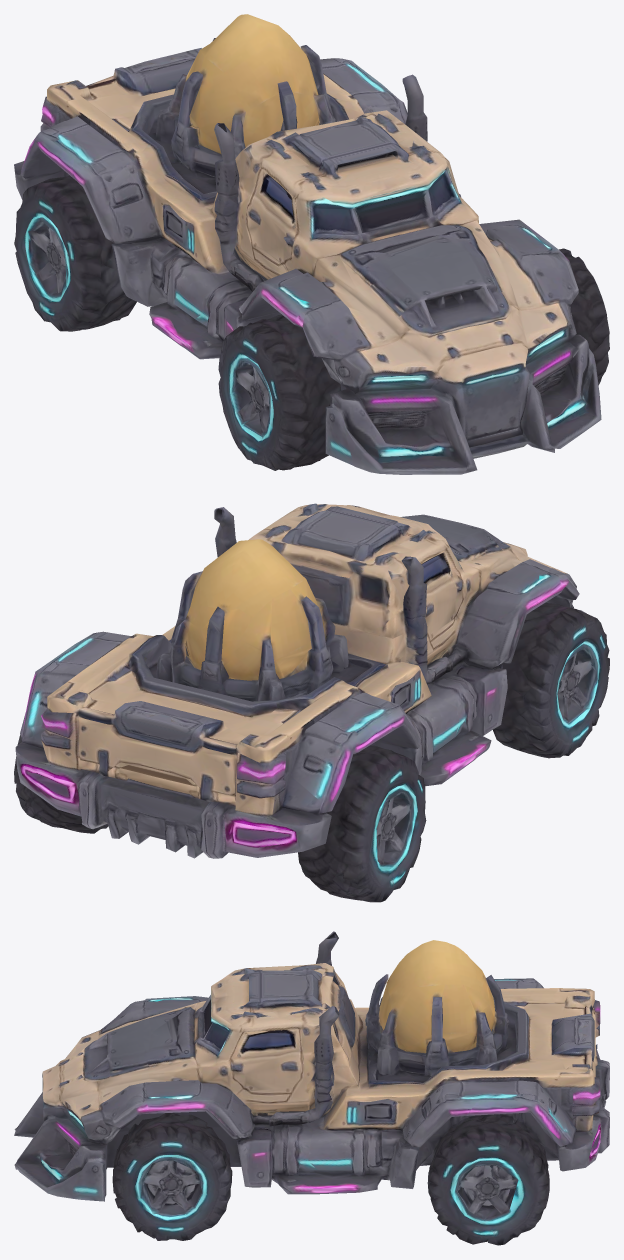
Rendered from mini-warrig.glb.
3 renders of one model, top to bottom at view 1: azimuth 30°, elevation 25°; view 2: azimuth 150°, elevation 25°; view 3: azimuth 270°, elevation 25°, orthographic. The views are drawn at different scales.
Visible parts, largest first — view 1: body; view 2: body; view 3: body.
Boxes of the visible parts, x1,y1,x2,y2 form: body: (14, 14, 609, 474); body: (14, 503, 609, 902); body: (14, 931, 609, 1245).
Size of the model in its own units: 0.5566 by 0.4435 by 0.9984.
Materials: 1 (1 with a texture image).
